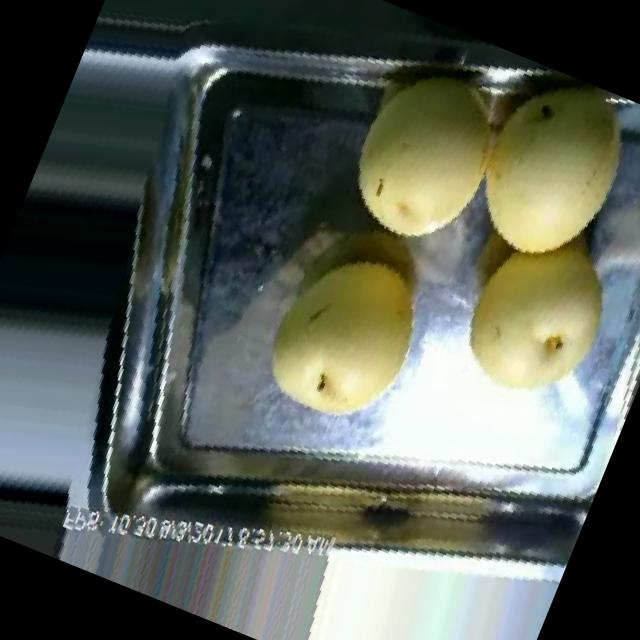Fruit: (218, 204, 468, 468), (298, 1, 536, 276), (412, 179, 640, 447), (422, 47, 640, 306)
